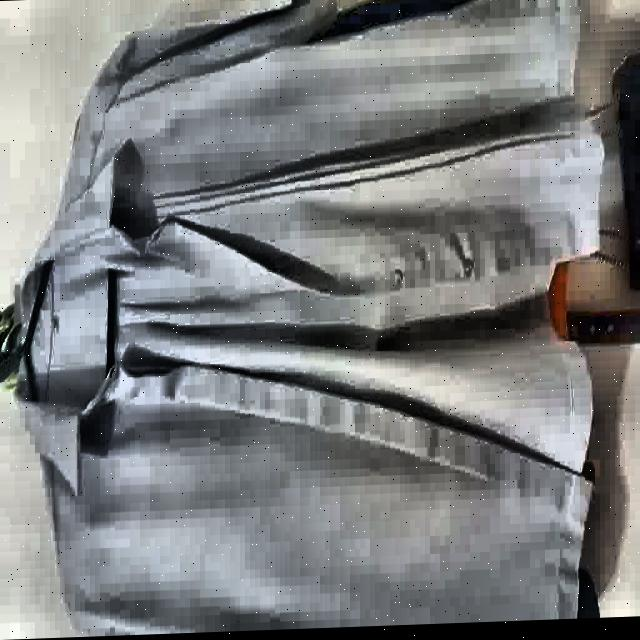clothes: (15, 0, 603, 639)
